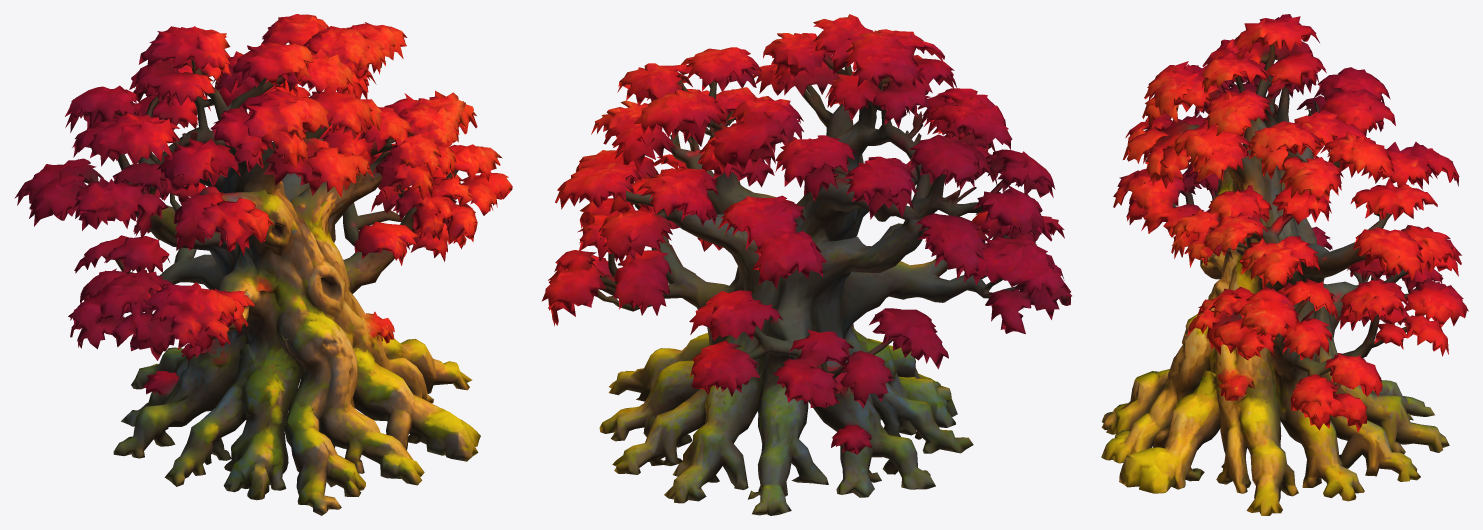
The model's file is fantasy tree 3d model.glb.
The picture shows the model from 3 angles, left to right: view 1: azimuth 30°, elevation 25°; view 2: azimuth 150°, elevation 25°; view 3: azimuth 270°, elevation 25°; orthographic projection. The views are drawn at different scales.
Parts seen in each view (by area): view 1: tripo_node_ffb2875d-bdaa-4a26-88d8-d7b0ee3d41b0; view 2: tripo_node_ffb2875d-bdaa-4a26-88d8-d7b0ee3d41b0; view 3: tripo_node_ffb2875d-bdaa-4a26-88d8-d7b0ee3d41b0.
Part boxes in pixels (left/top/right/bottom): tripo_node_ffb2875d-bdaa-4a26-88d8-d7b0ee3d41b0: left=14, top=14, right=512, bottom=515; tripo_node_ffb2875d-bdaa-4a26-88d8-d7b0ee3d41b0: left=541, top=14, right=1071, bottom=515; tripo_node_ffb2875d-bdaa-4a26-88d8-d7b0ee3d41b0: left=1101, top=14, right=1468, bottom=515.
Size of the model in its own units: 1 by 0.8724 by 0.7484.
1 material, 1 textured.
